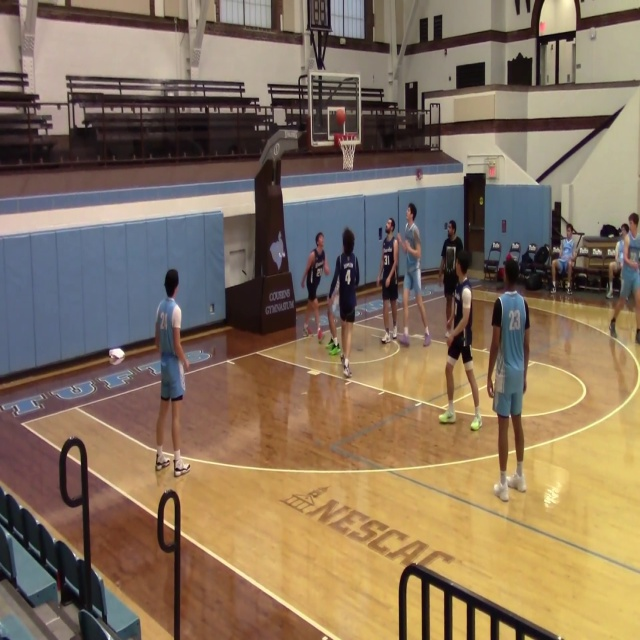Basketball: (336, 109, 345, 123)
